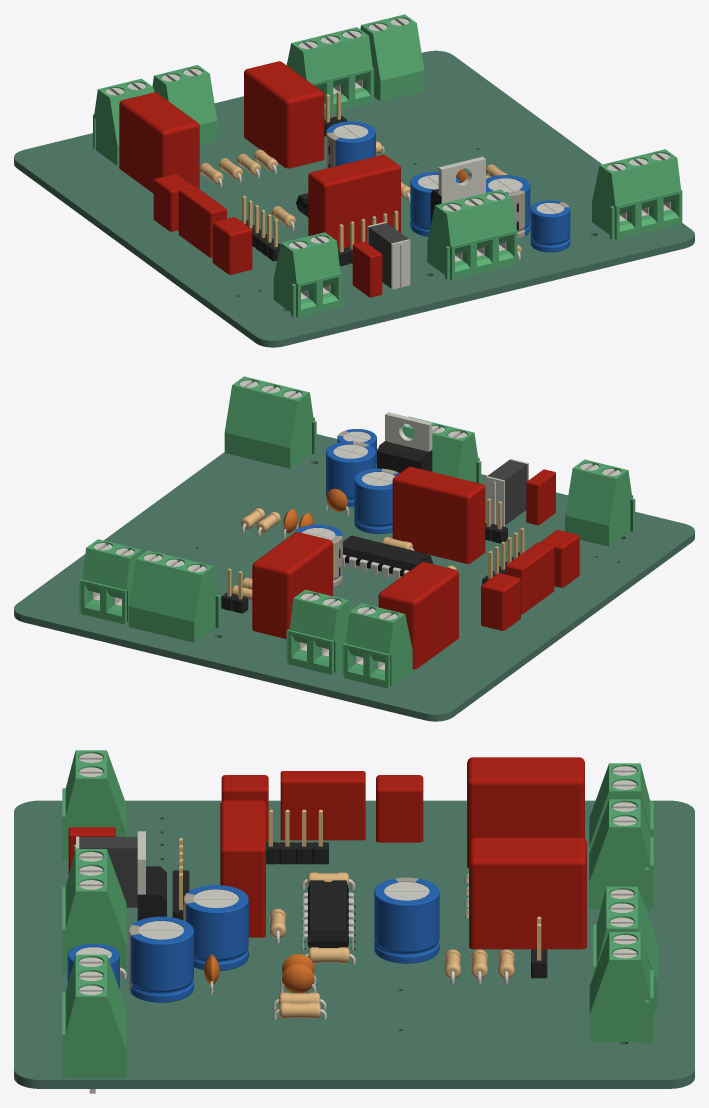
The model's file is subxo_board.glb.
3 renders of one model, top to bottom at view 1: azimuth 30°, elevation 25°; view 2: azimuth 150°, elevation 25°; view 3: azimuth 270°, elevation 25°, orthographic. The views are drawn at different scales.
Parts seen in each view (by area): view 1: =>[0:1:1:34], =>[0:1:1:19] (×3), =>[0:1:1:17] (×4), =>[0:1:1:27] (×2), =>[0:1:1:29], =>[0:1:1:5] (×3), =>[0:1:1:21] (×2), =>[0:1:1:25], =>[0:1:1:31] (×2), =>[0:1:1:15], =>[0:1:1:7], =>[0:1:1:3] (+1 smaller); view 2: =>[0:1:1:34], =>[0:1:1:17] (×4), =>[0:1:1:19] (×3), =>[0:1:1:27] (×2), =>[0:1:1:29], =>[0:1:1:5] (×3), =>[0:1:1:21] (×2), =>[0:1:1:3], =>[0:1:1:33], =>[0:1:1:25], =>[0:1:1:15], =>[0:1:1:31] (×2) (+3 smaller); view 3: =>[0:1:1:34], =>[0:1:1:27] (×2), =>[0:1:1:17] (×4), =>[0:1:1:19] (×3), =>[0:1:1:5] (×3), =>[0:1:1:25], =>[0:1:1:29], =>[0:1:1:21] (×2), =>[0:1:1:33], =>[0:1:1:31] (×2), =>[0:1:1:9] (×3), =>[0:1:1:15] (+5 smaller).
Part boxes in pixels (box(x1,y1,x2,y2)): =>[0:1:1:34]: box(14, 50, 694, 347); =>[0:1:1:19] (×3): box(286, 27, 682, 279); =>[0:1:1:17] (×4): box(93, 14, 424, 317); =>[0:1:1:27] (×2): box(119, 61, 324, 193); =>[0:1:1:29]: box(308, 154, 400, 249); =>[0:1:1:5] (×3): box(326, 121, 530, 238); =>[0:1:1:21] (×2): box(153, 174, 252, 274); =>[0:1:1:25]: box(178, 186, 226, 257); =>[0:1:1:31] (×2): box(241, 196, 398, 266); =>[0:1:1:15]: box(367, 222, 410, 289); =>[0:1:1:7]: box(530, 200, 570, 252); =>[0:1:1:3]: box(430, 156, 485, 224); =>[0:1:1:34]: box(14, 434, 694, 721); =>[0:1:1:17] (×4): box(79, 459, 635, 688); =>[0:1:1:19] (×3): box(128, 376, 481, 642); =>[0:1:1:27] (×2): box(252, 532, 458, 669); =>[0:1:1:29]: box(392, 466, 485, 563); =>[0:1:1:5] (×3): box(294, 441, 399, 587); =>[0:1:1:21] (×2): box(481, 530, 579, 630); =>[0:1:1:3]: box(377, 412, 432, 473); =>[0:1:1:33]: box(343, 535, 432, 580); =>[0:1:1:25]: box(506, 542, 554, 614); =>[0:1:1:15]: box(485, 459, 528, 526); =>[0:1:1:31] (×2): box(482, 498, 524, 584); =>[0:1:1:34]: box(14, 800, 694, 1088); =>[0:1:1:27] (×2): box(467, 757, 586, 949); =>[0:1:1:17] (×4): box(62, 750, 653, 1043); =>[0:1:1:19] (×3): box(62, 849, 657, 1093); =>[0:1:1:5] (×3): box(128, 877, 439, 1002); =>[0:1:1:25]: box(280, 771, 365, 840); =>[0:1:1:29]: box(220, 800, 265, 937); =>[0:1:1:21] (×2): box(221, 775, 423, 842); =>[0:1:1:33]: box(302, 880, 353, 949); =>[0:1:1:31] (×2): box(172, 809, 328, 919); =>[0:1:1:9] (×3): box(272, 947, 355, 1019); =>[0:1:1:15]: box(74, 836, 137, 907).
Bounding box in the file's own units: 0.101 × 0.0285 × 0.104.
